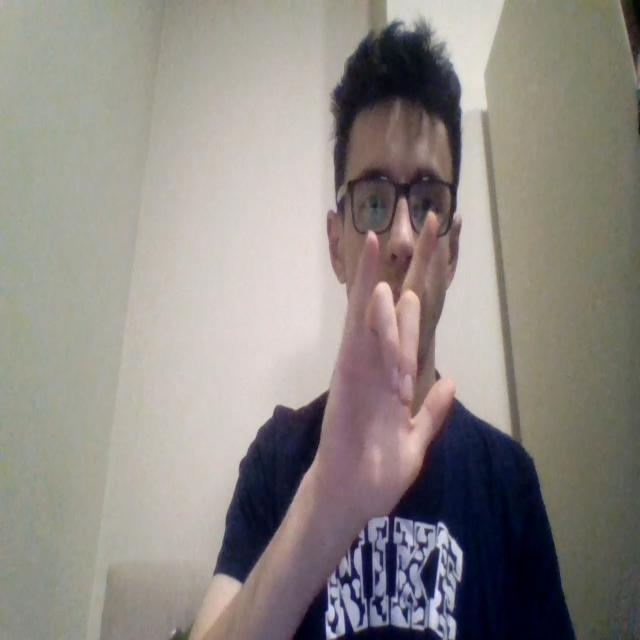iloveyou: (317, 219, 458, 526)
